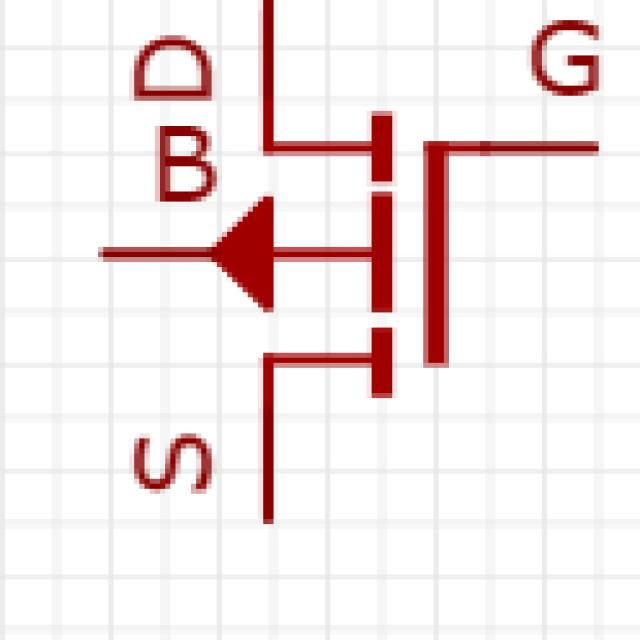pmos: (76, 12, 638, 552)
